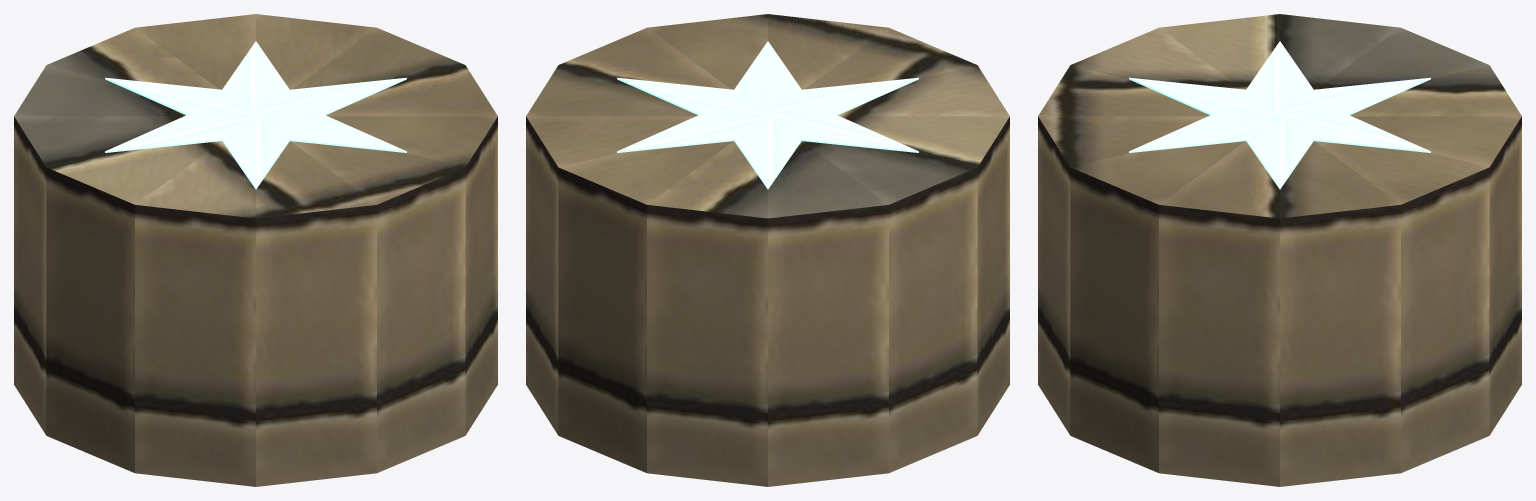
File: rune_stone.glb
3 renders of one model, left to right at view 1: azimuth 30°, elevation 25°; view 2: azimuth 150°, elevation 25°; view 3: azimuth 270°, elevation 25°, orthographic.
Parts seen in each view (by area): view 1: props_0_0; view 2: props_0_0; view 3: props_0_0.
Boxes of the visible parts, bbox=[...] form: props_0_0: bbox=[14, 14, 497, 486]; props_0_0: bbox=[526, 14, 1009, 486]; props_0_0: bbox=[1038, 14, 1521, 486].
Size of the model in its own units: 1 by 0.616 by 1.
1 material, 1 textured.
